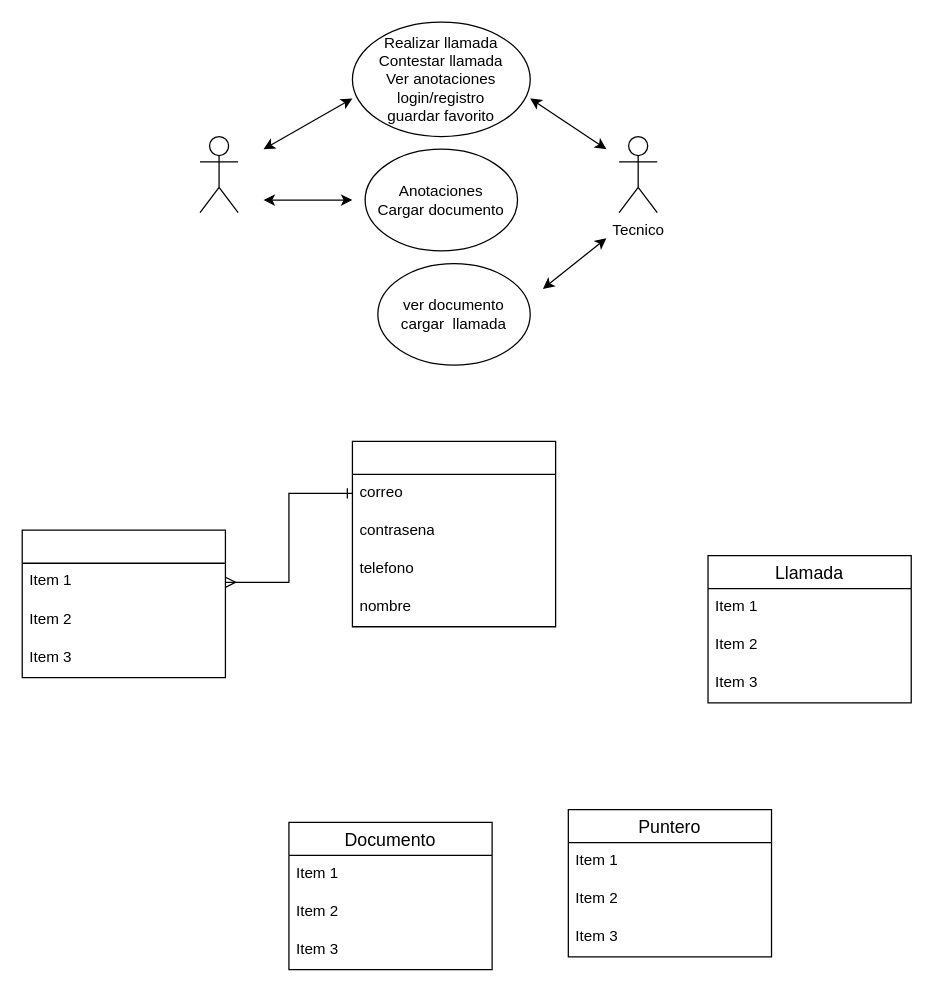
Image size: 933x996. Some labels were removed from this diagram. The shapes that lost their labels are listed below. From the top down, each one's box as (x1, y1, x2, y2) in pixels, then its label:
(199, 135, 238, 213): Experto
(351, 440, 556, 627): Usuario
(21, 529, 225, 678): Favorito
